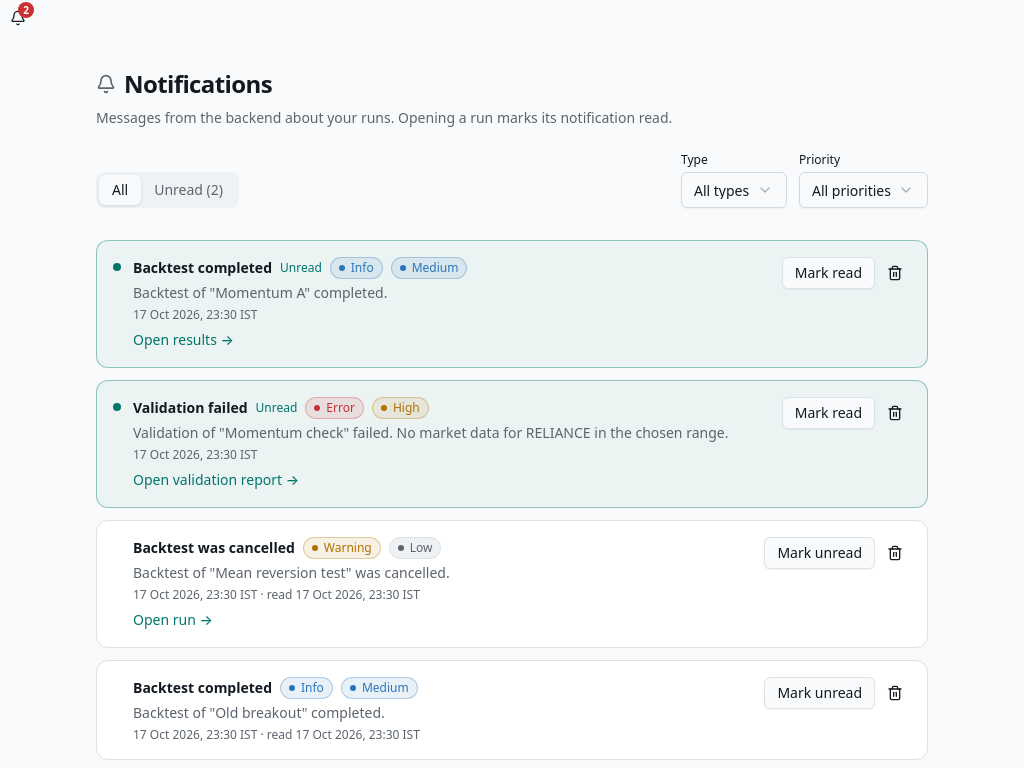
it: NotificationsPage › delete asks first and sends one DELETE
Click the button named "Delete: Backtest completed" in the row of "Backtest of \"Old breakout\" completed.": (895, 693) 879,677 -> 911,709
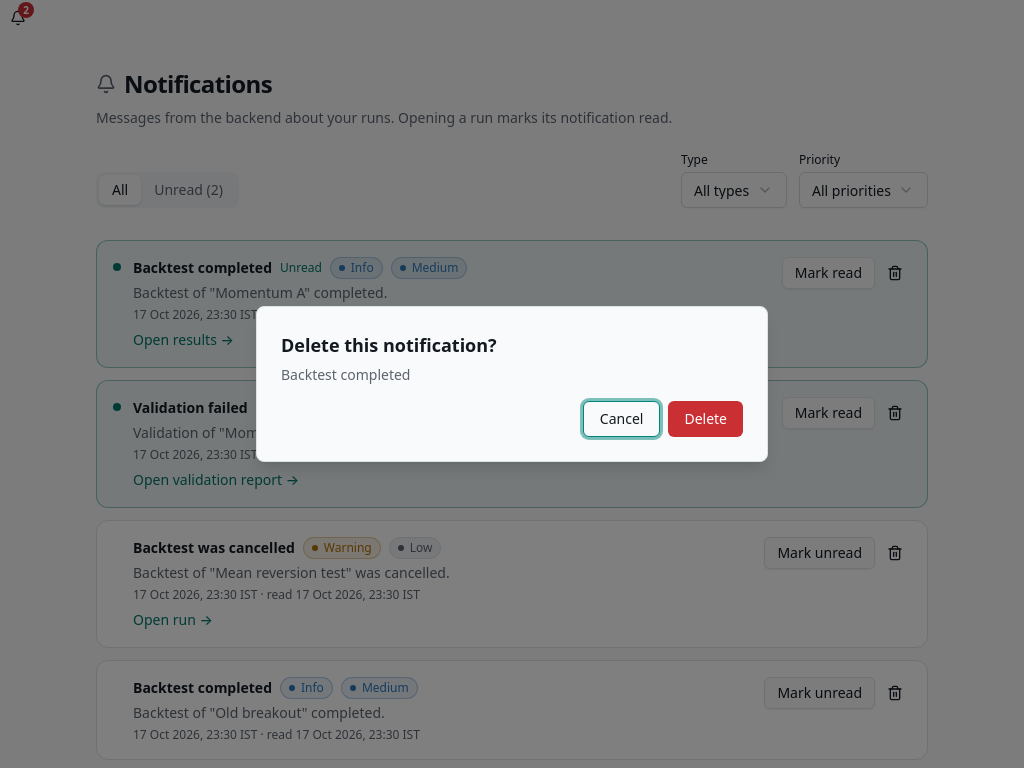
Click the button "Delete": (706, 419) 668,401 -> 743,437
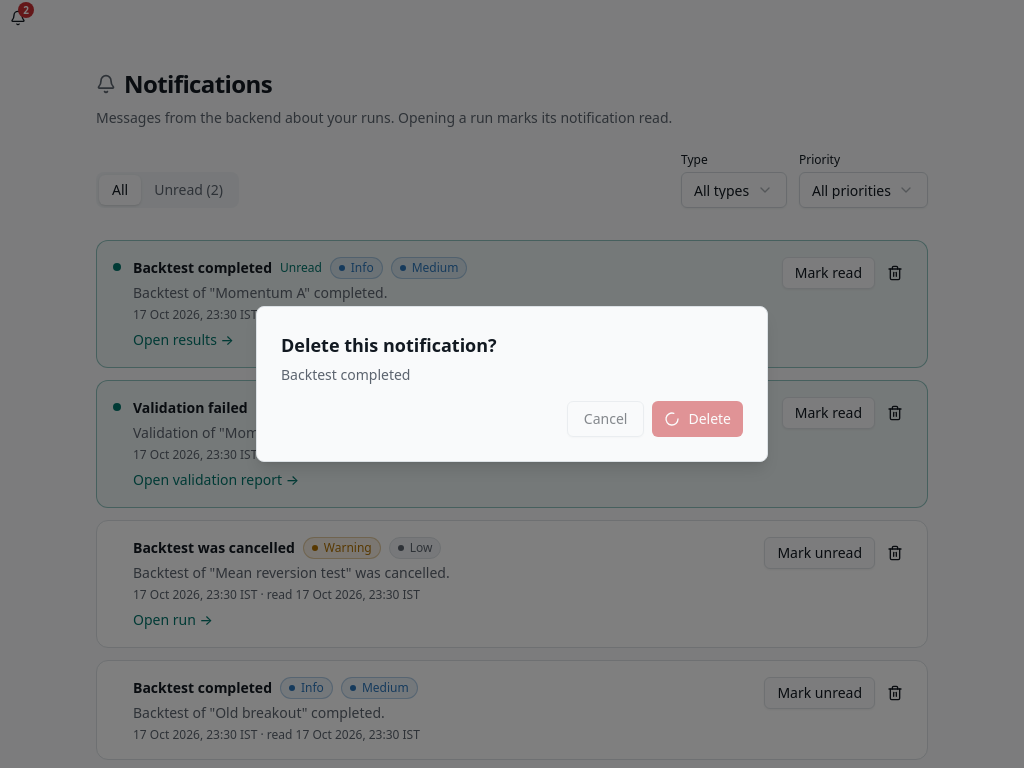
Click the button "Delete": (698, 419) 652,401 -> 743,437
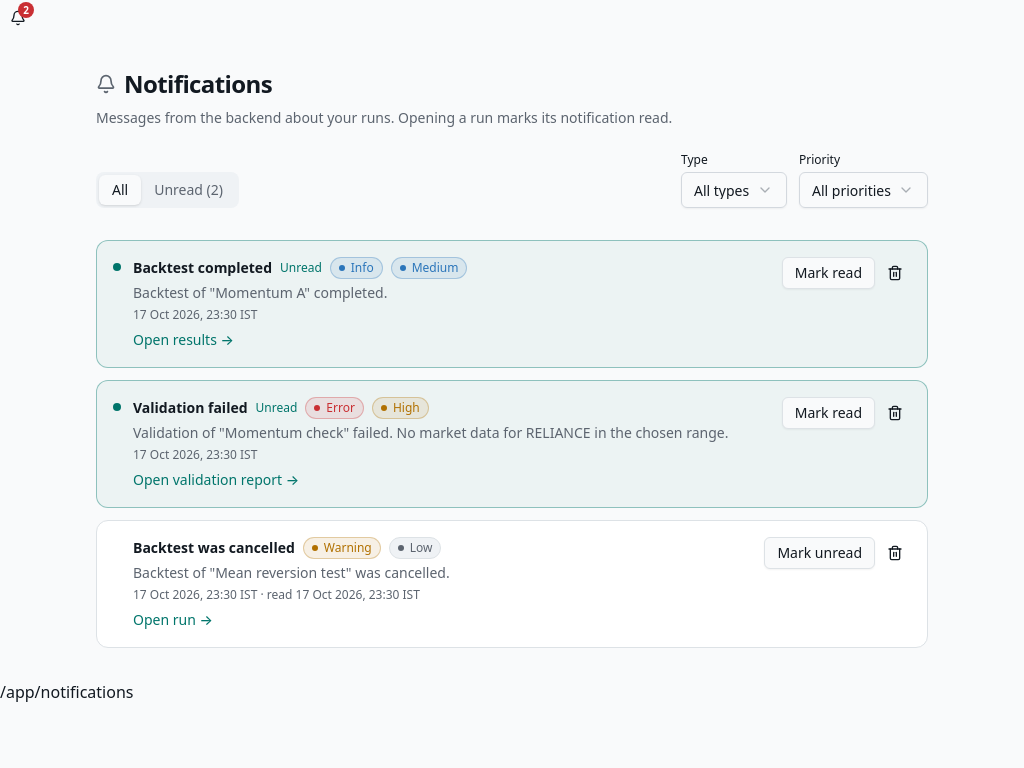
Result: the dialog is gone
Result: the number of list items is 3 at 96,240 -> 928,368; 96,380 -> 928,508; 96,520 -> 928,648
